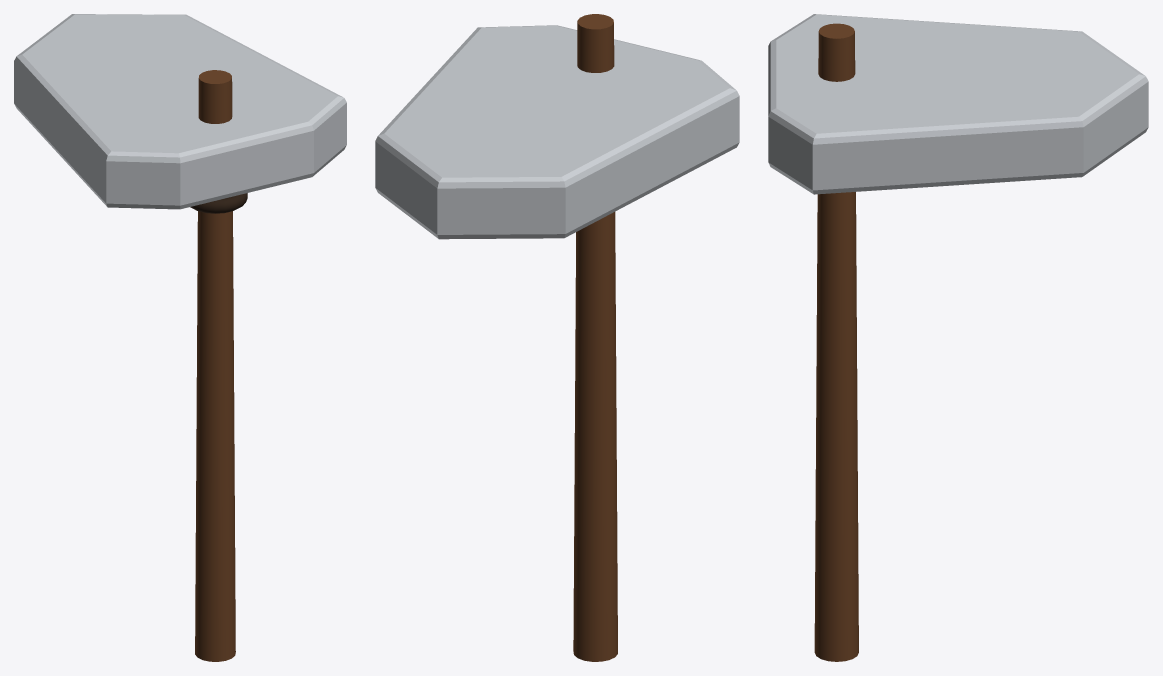
The model's file is iron_axe.glb.
3 renders of one model, left to right at view 1: azimuth 30°, elevation 25°; view 2: azimuth 150°, elevation 25°; view 3: azimuth 270°, elevation 25°, orthographic. The views are drawn at different scales.
Visible parts, largest first — view 1: head, handle, binding; view 2: head, handle; view 3: head, handle.
Boxes of the visible parts, left/top/right/bottom form: head: left=14, top=14, right=346, bottom=209; handle: left=195, top=70, right=235, bottom=661; binding: left=190, top=193, right=247, bottom=213; head: left=375, top=25, right=739, bottom=239; handle: left=573, top=14, right=617, bottom=661; head: left=768, top=14, right=1148, bottom=194; handle: left=814, top=23, right=858, bottom=661.
Bounding box in the file's own units: 0.2974 × 0.68 × 0.3773.
